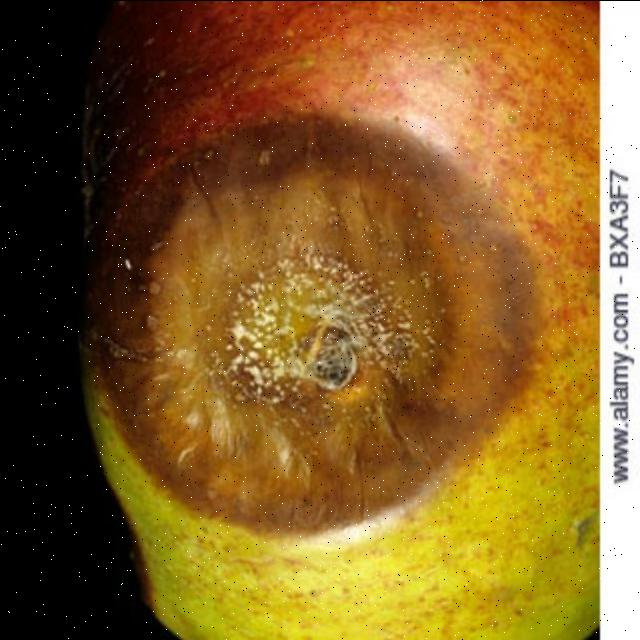ROT: (41, 0, 595, 640)
